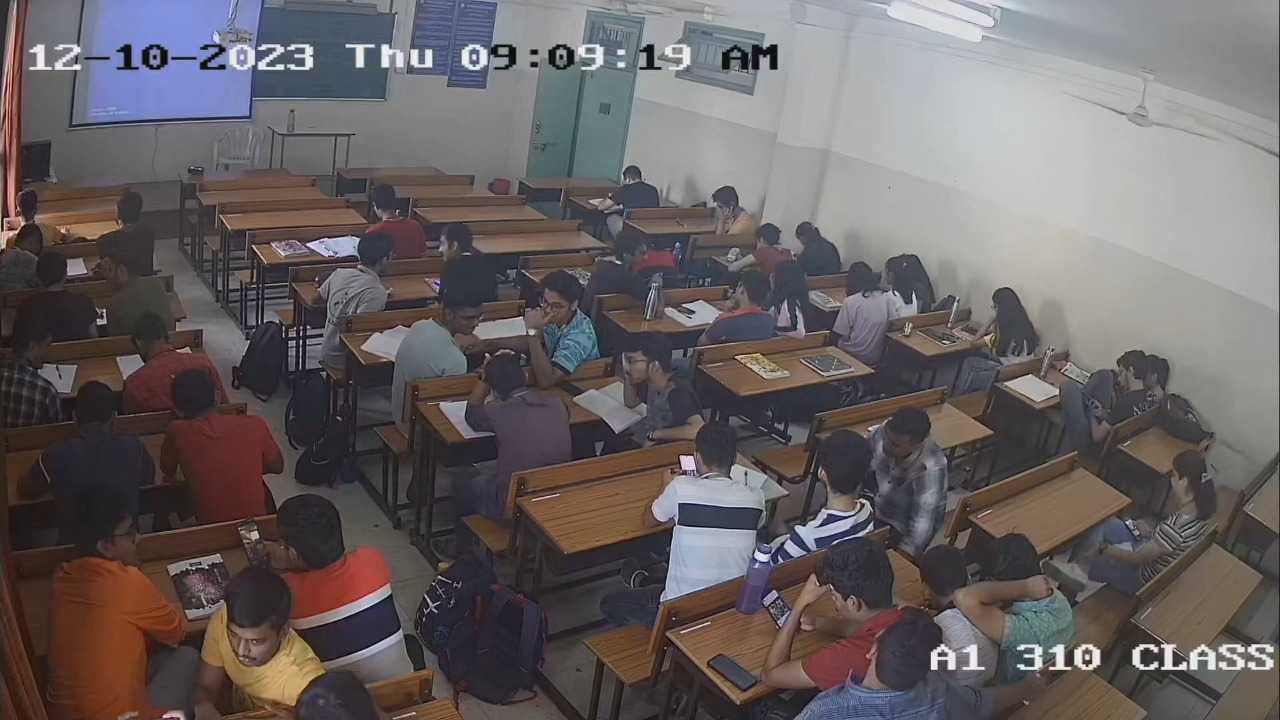cell-phones: (232, 515, 271, 576), (705, 650, 759, 691), (756, 587, 797, 630), (674, 448, 705, 478), (1116, 508, 1144, 539), (1081, 388, 1102, 416), (672, 301, 696, 317), (960, 323, 979, 338)
person: (268, 493, 414, 678), (769, 537, 933, 686), (810, 609, 993, 720), (640, 423, 768, 576), (1092, 447, 1217, 589), (1058, 346, 1152, 446), (965, 283, 1040, 377), (691, 270, 774, 354)
